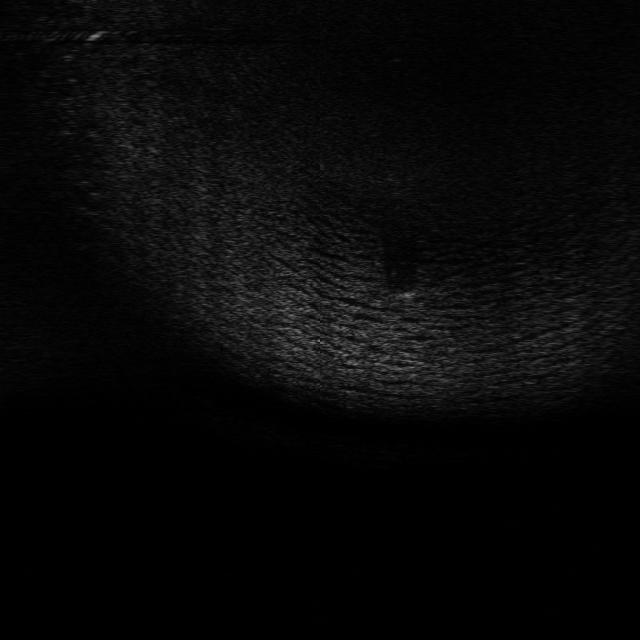cube: (383, 284, 418, 306)
